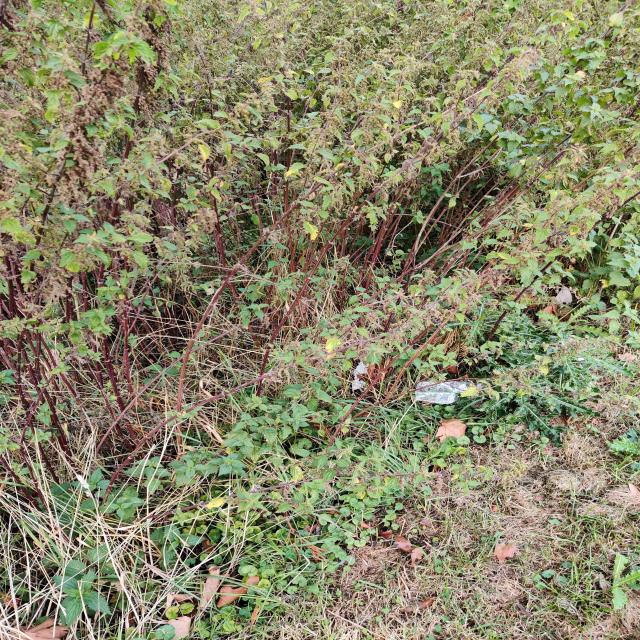litter: (413, 379, 479, 407)
